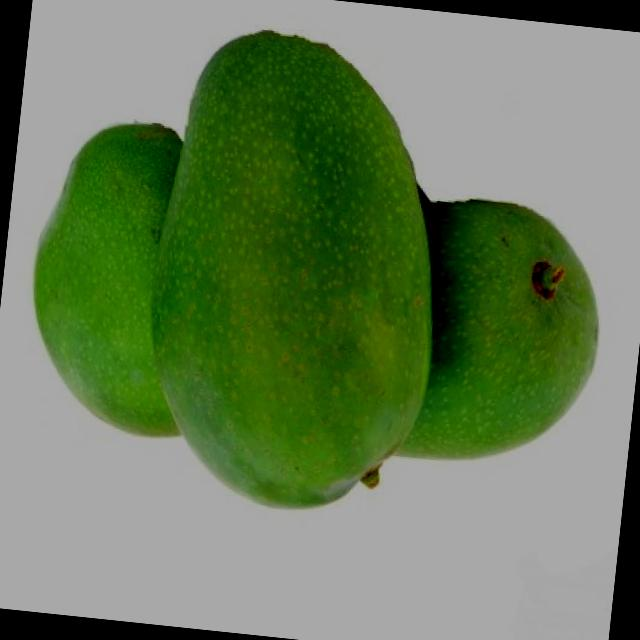Mango: (132, 21, 467, 528), (318, 179, 612, 482), (15, 117, 227, 440)
